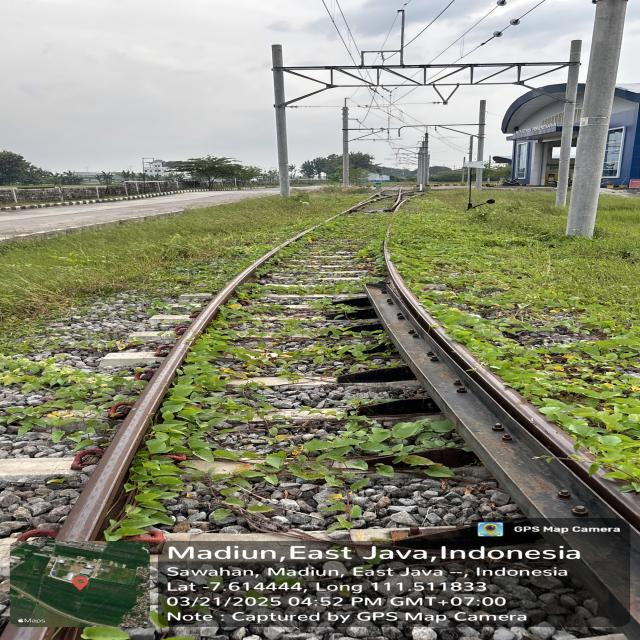rail-detection: (365, 251, 640, 545), (56, 246, 281, 540), (565, 532, 640, 640), (325, 186, 403, 222), (405, 188, 424, 197)
